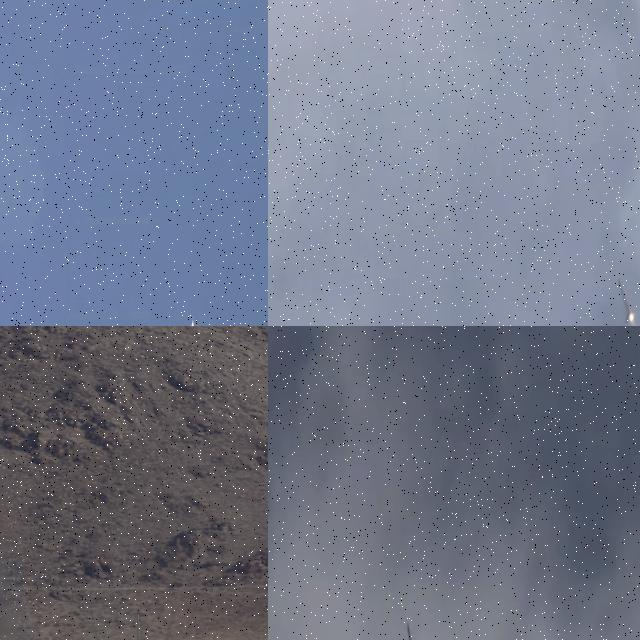Rocket: (618, 278, 634, 318), (406, 622, 419, 640), (192, 316, 195, 324)
